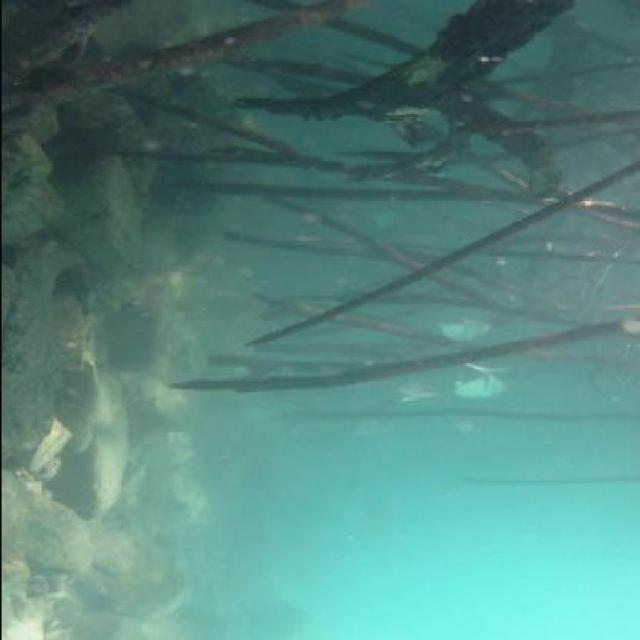Caranx_sexfasciatus_juvenile: (452, 365, 516, 403), (335, 415, 393, 448), (430, 315, 499, 342), (382, 378, 450, 405)
